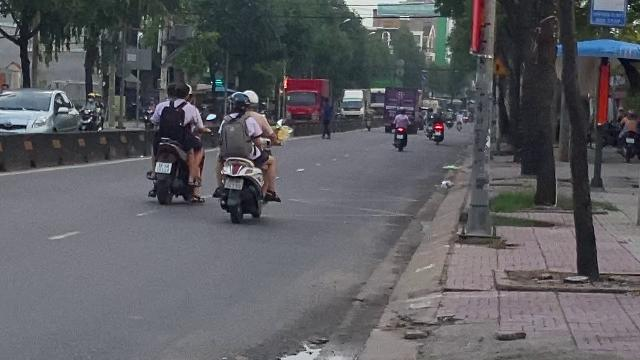helmet: (228, 90, 248, 114), (243, 90, 259, 106)
licenseplate: (224, 177, 242, 189), (155, 162, 171, 174)
motorcyclist: (210, 90, 282, 222), (144, 80, 206, 204)
nohelmet: (172, 82, 190, 100)
